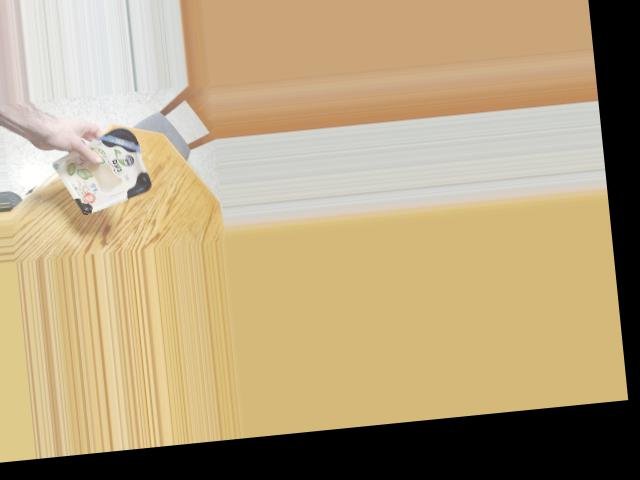cheese: (64, 122, 155, 214)
